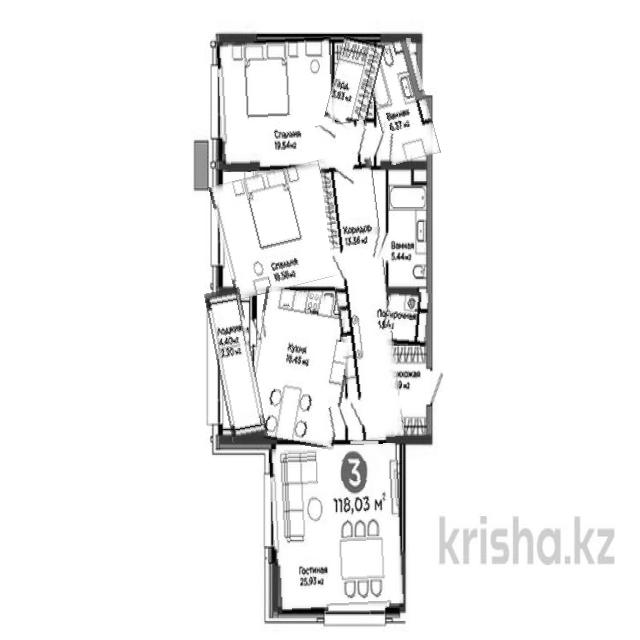balcony: (212, 288, 262, 442)
bathroom: (368, 40, 434, 163), (387, 166, 431, 290)
hallway: (315, 122, 405, 440)
kitchen: (248, 288, 354, 447)
living_room: (271, 445, 403, 611), (214, 163, 353, 294), (218, 38, 336, 171)
other: (330, 37, 380, 126), (387, 291, 431, 347)
